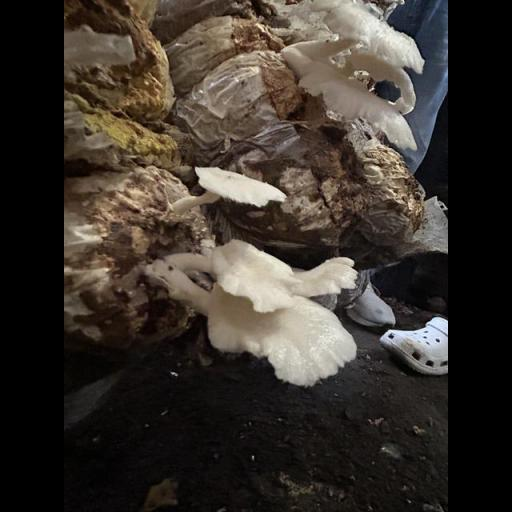White Oyster Mushroom: (146, 238, 373, 395), (157, 158, 286, 229)
